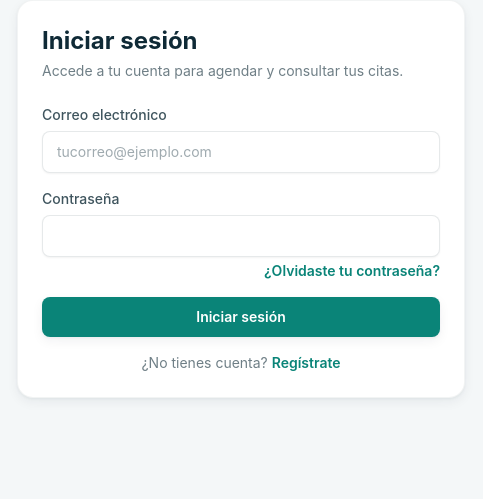
Test: <Login /> › B-10: manejo de TimeoutError en signIn › muestra mensaje específico cuando signIn rechaza con TimeoutError
Type "paciente@test.com" into the field labelled "Correo electrónico".
click(241, 152); type("paciente@test.com")  # box [42,131,440,173]
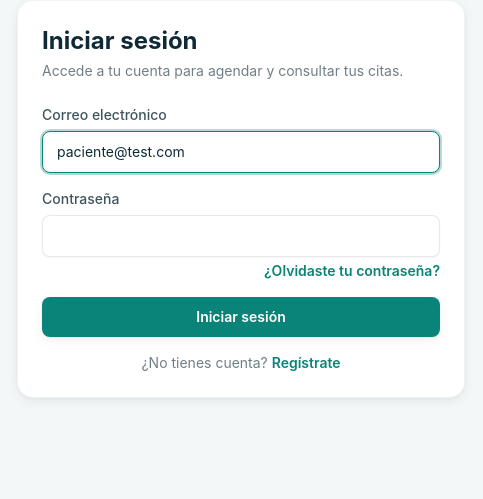
Type "segura123" into the password field labelled "Contraseña".
click(241, 236); type("segura123")  # box [42,215,440,257]
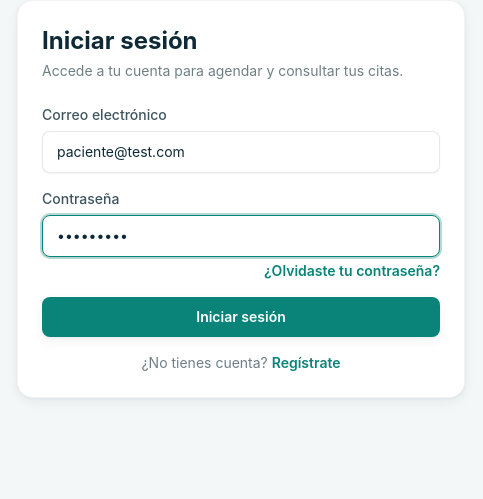
Click the button "Iniciar sesión".
click(241, 317)  # box [42,297,440,337]
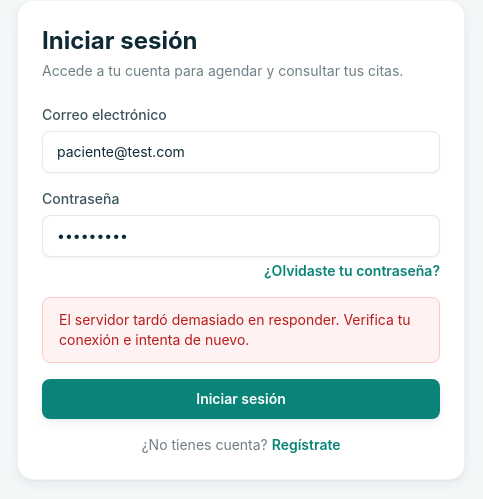
Result: the message shows "El servidor tardó demasiado en responder" at [59,311,411,348]
